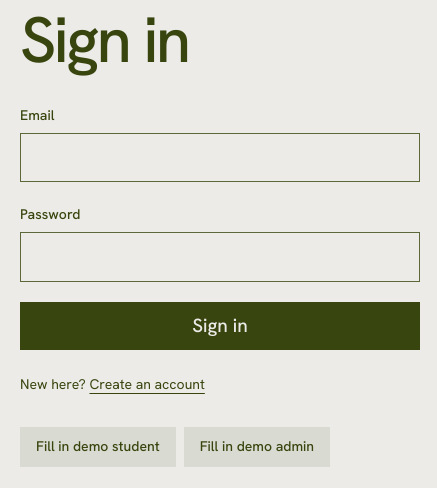
Test: the demo account buttons › fill the sign-in form with the configured account
The width and height of the screenshot is (437, 488).
What coordinates should you click on to do the following:
click the button "Fill in demo admin"
I would click on:
 (257, 447)
Its box is [184,427,330,467].
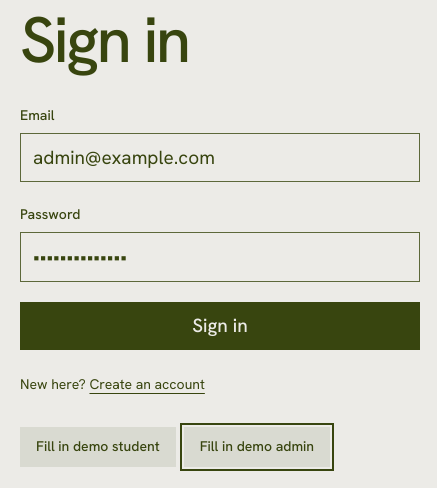
Result: the field labelled "Email" holds "admin@example.com" at [20,133,420,182]
Result: the password field labelled "Password" holds "admin-password" at [20,232,420,282]
What coordinates should you click on to do the following:
click the button "Fill in demo student"
I would click on:
 (98, 447)
Its box is [20,427,176,467].
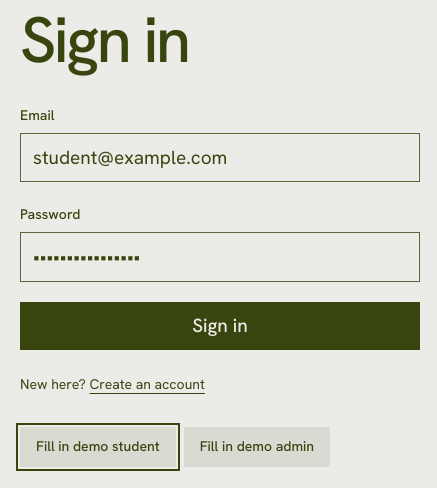
Result: the field labelled "Email" holds "student@example.com" at [20,133,420,182]
